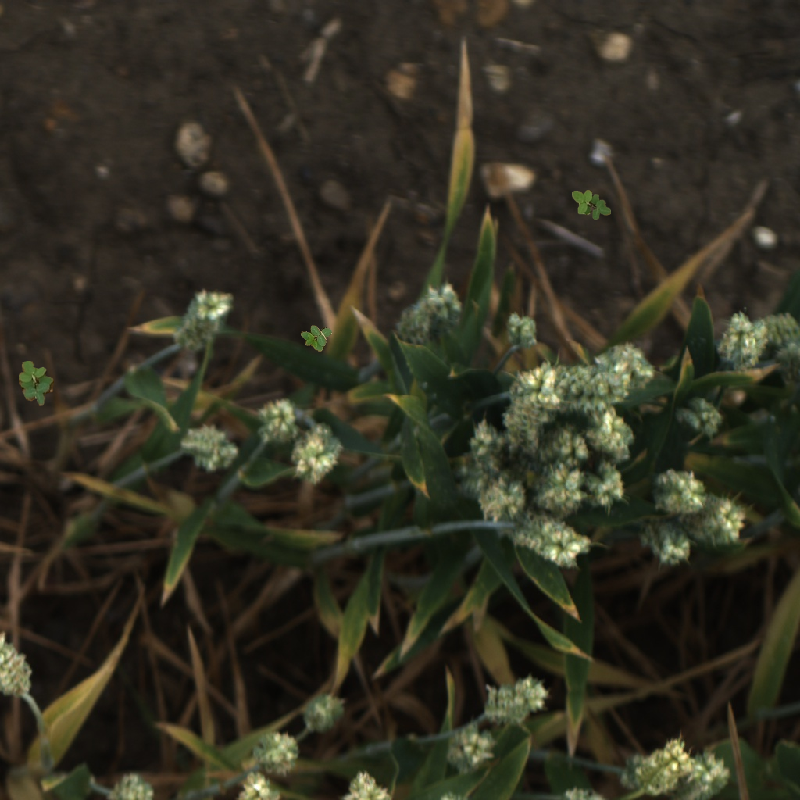spikelet: (539, 355, 662, 410), (494, 364, 555, 465), (618, 734, 698, 799), (395, 279, 466, 350), (514, 517, 588, 577), (173, 287, 242, 351), (482, 671, 554, 728), (682, 489, 750, 547), (582, 402, 642, 463), (289, 423, 347, 486), (175, 423, 243, 475), (714, 308, 769, 371), (442, 723, 502, 778), (675, 750, 739, 800), (532, 419, 592, 472), (650, 468, 707, 519), (253, 391, 307, 444), (747, 310, 800, 364), (293, 685, 350, 735), (600, 338, 655, 389), (247, 726, 306, 773), (533, 466, 588, 515), (1, 628, 39, 698), (585, 459, 632, 514), (672, 397, 730, 440), (473, 473, 528, 518), (637, 525, 692, 568), (465, 417, 502, 475), (104, 769, 158, 800), (498, 309, 541, 346)
weed: (19, 361, 54, 406), (296, 317, 335, 354), (572, 190, 611, 220)
